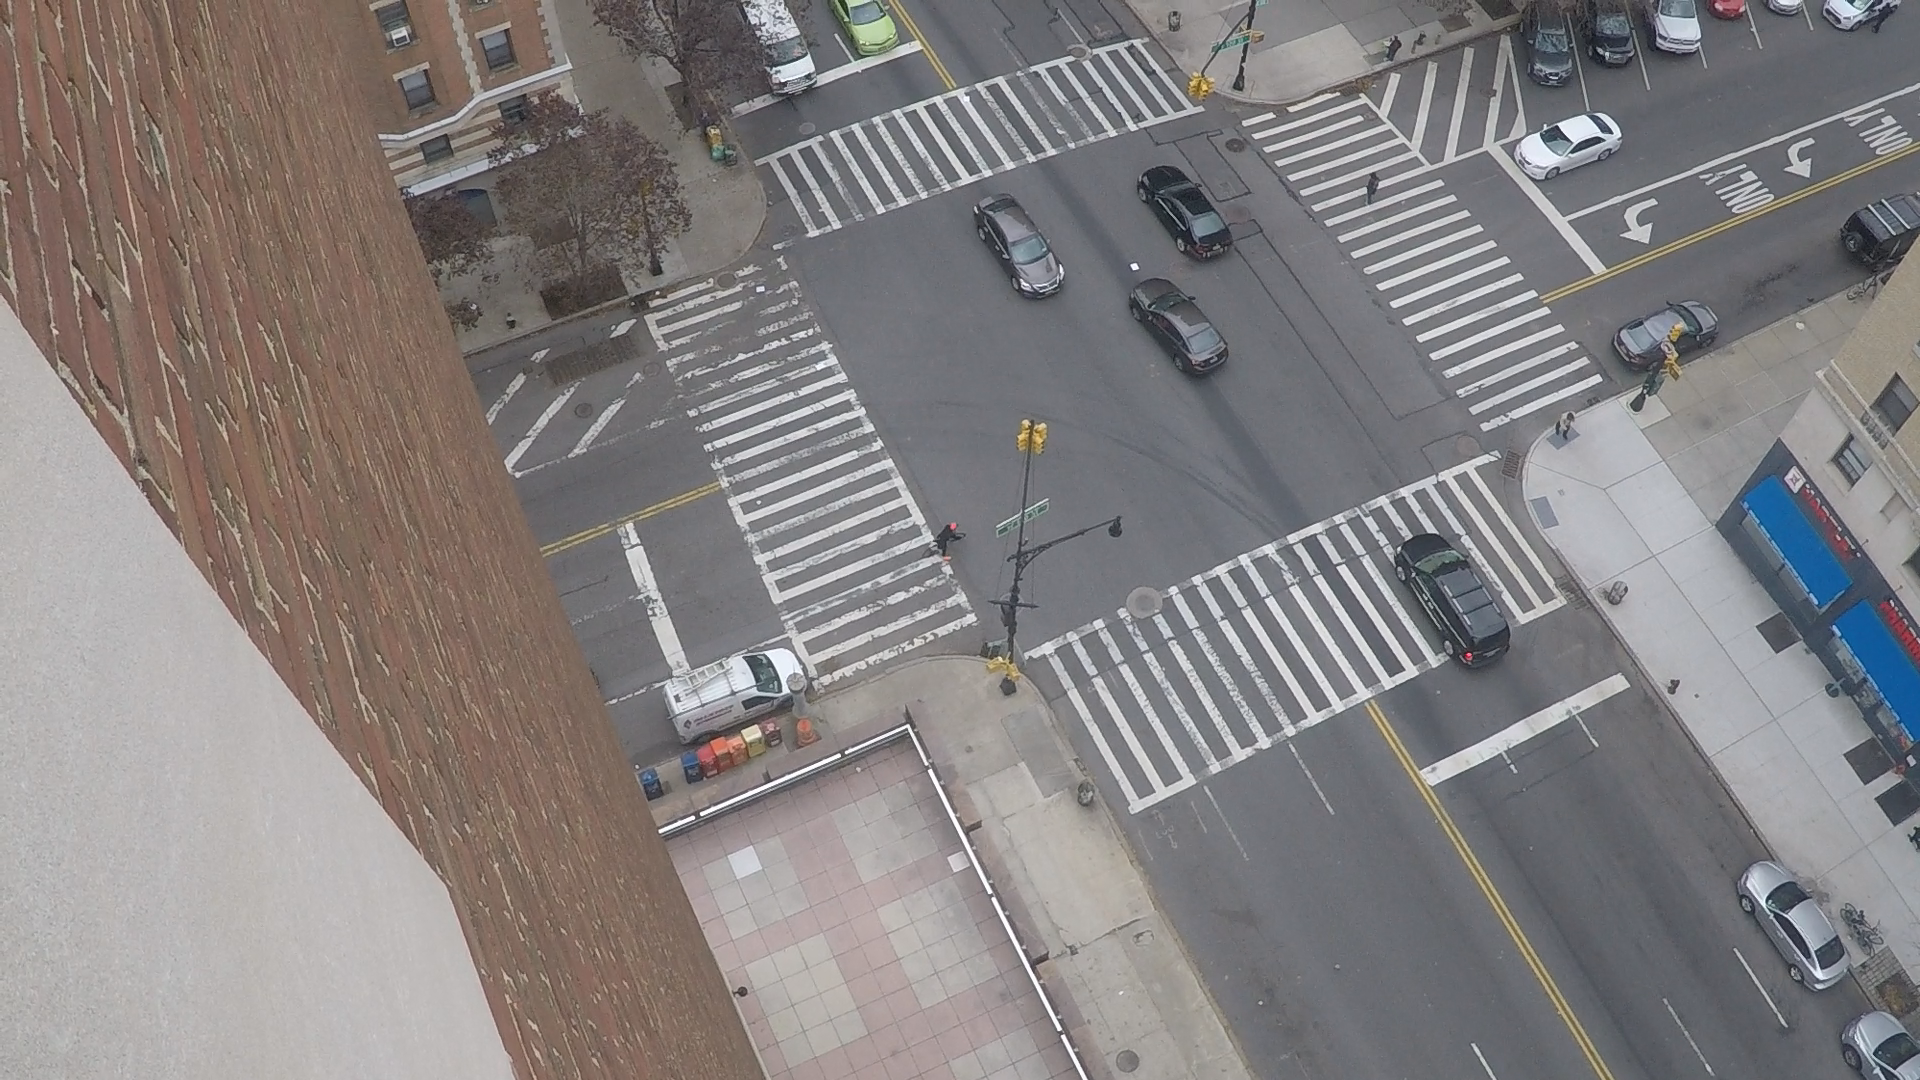Car: (785, 0, 803, 34), (880, 0, 884, 7), (1760, 0, 1764, 5), (1643, 0, 1644, 9), (1704, 0, 1705, 7)
